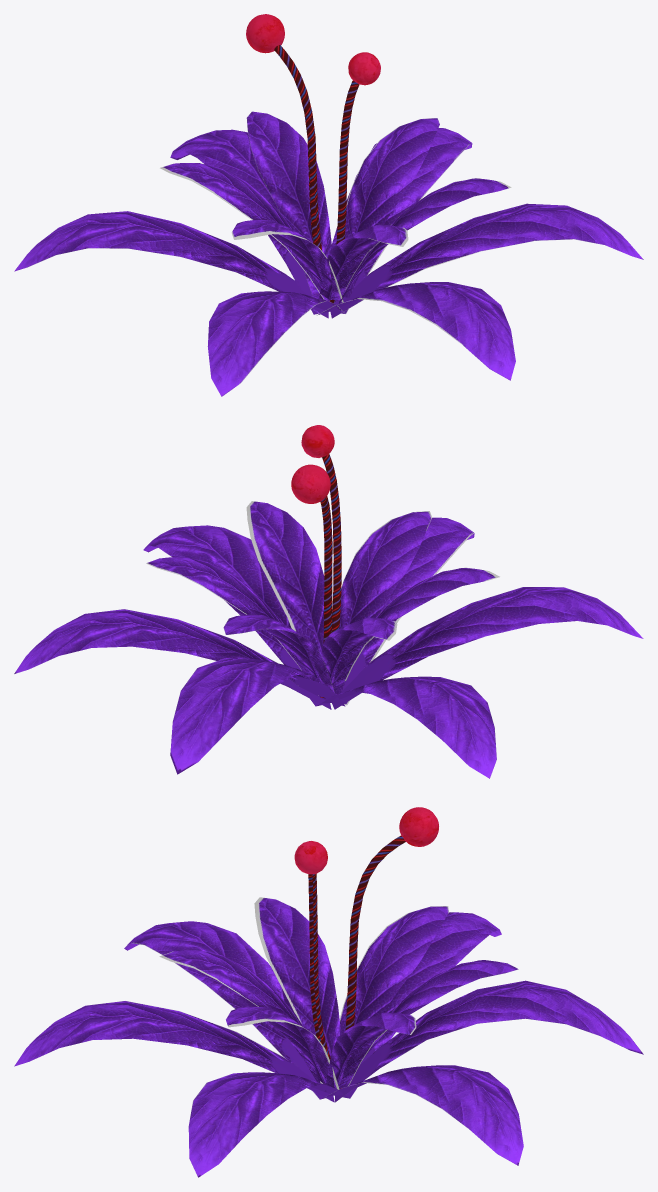
Rendered from fern.glb.
The picture shows the model from 3 angles, top to bottom: view 1: azimuth 30°, elevation 25°; view 2: azimuth 150°, elevation 25°; view 3: azimuth 270°, elevation 25°; orthographic projection.
Visible parts, largest first — view 1: defaultMaterial; view 2: defaultMaterial; view 3: defaultMaterial.
Part boxes in pixels (x1,y1,x2,y2): defaultMaterial: (14,14,643,396); defaultMaterial: (14,425,643,778); defaultMaterial: (14,807,643,1177).
Bounding box in the file's own units: 1.81 × 0.9632 × 2.
1 material, 1 textured.
